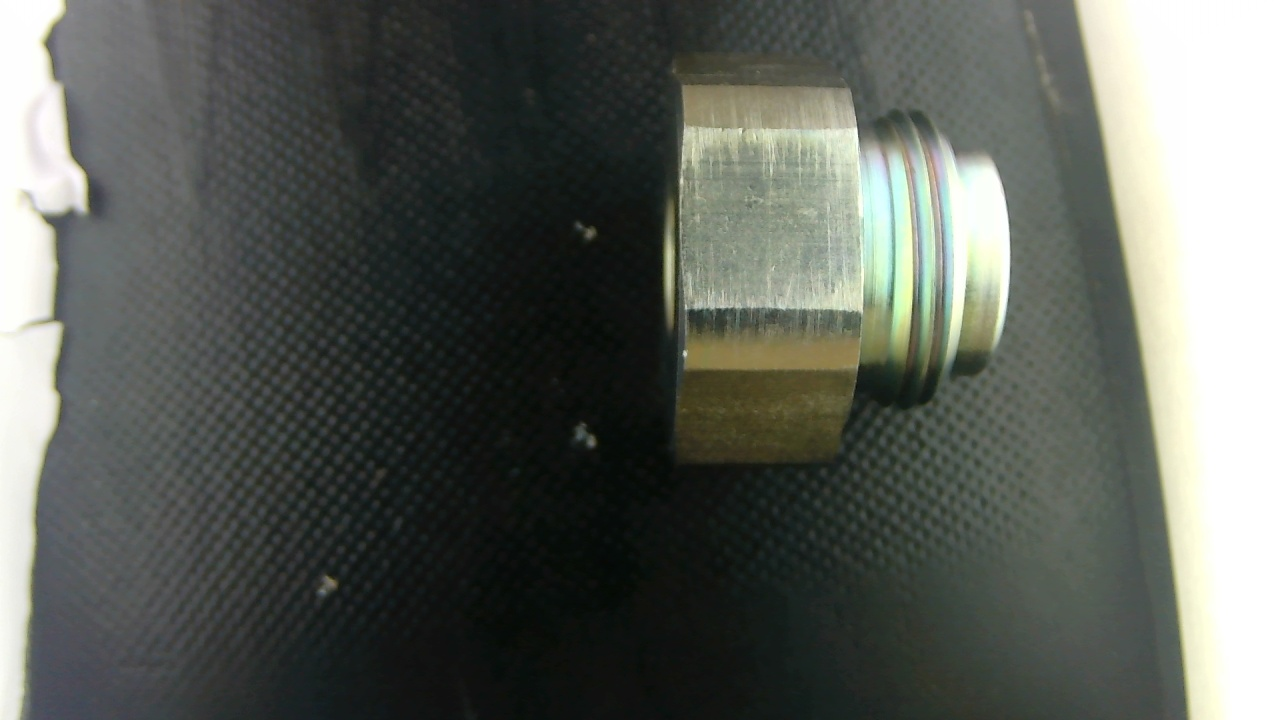Capnut_Okay: (664, 55, 1008, 462)
